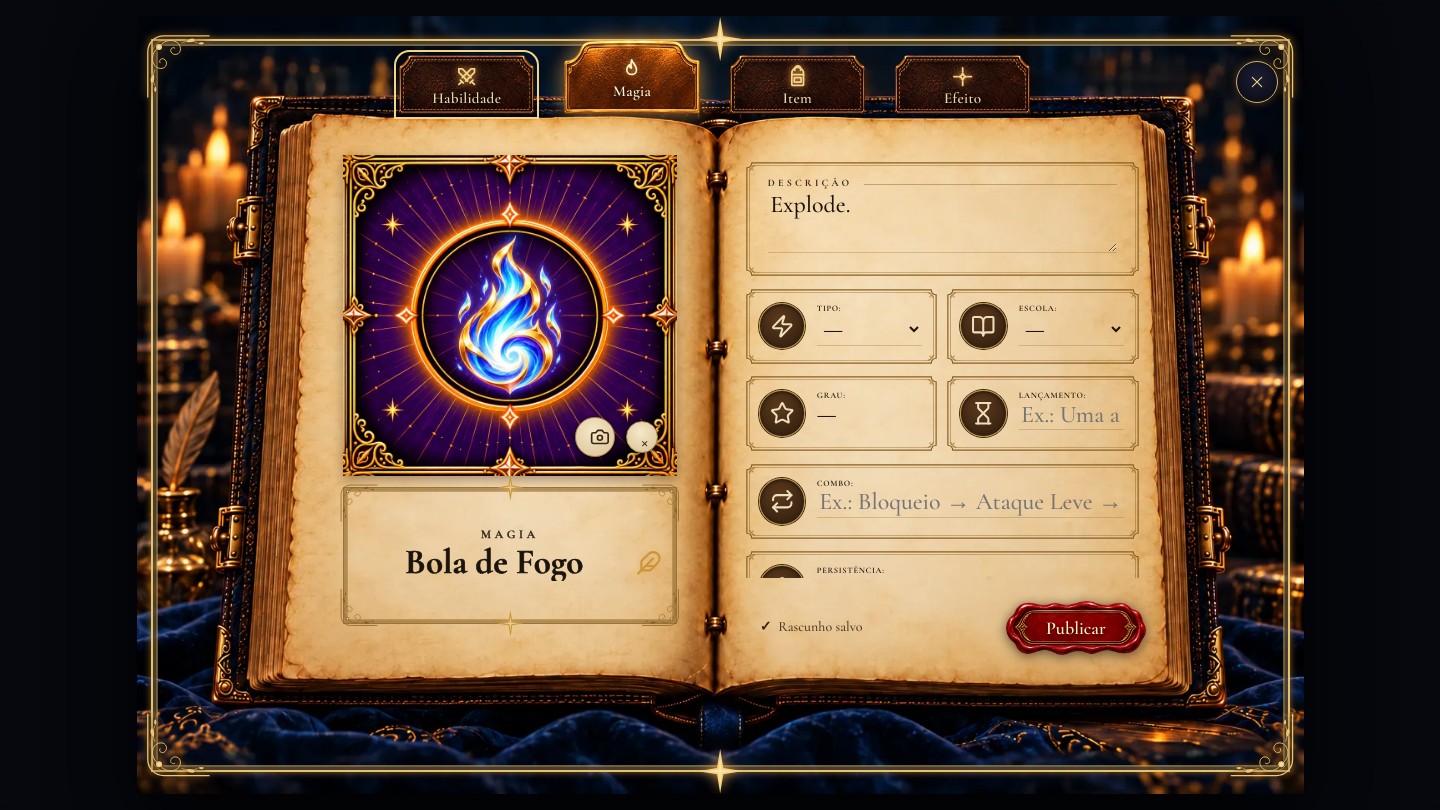
Test: CardEditor — salvamento, validação e publicação › publicação com arte privada: a confirmação avisa da cópia e publica com a versão salva
Click the button "Publicar". click: (1076, 628)
box: [1006,601,1146,655]
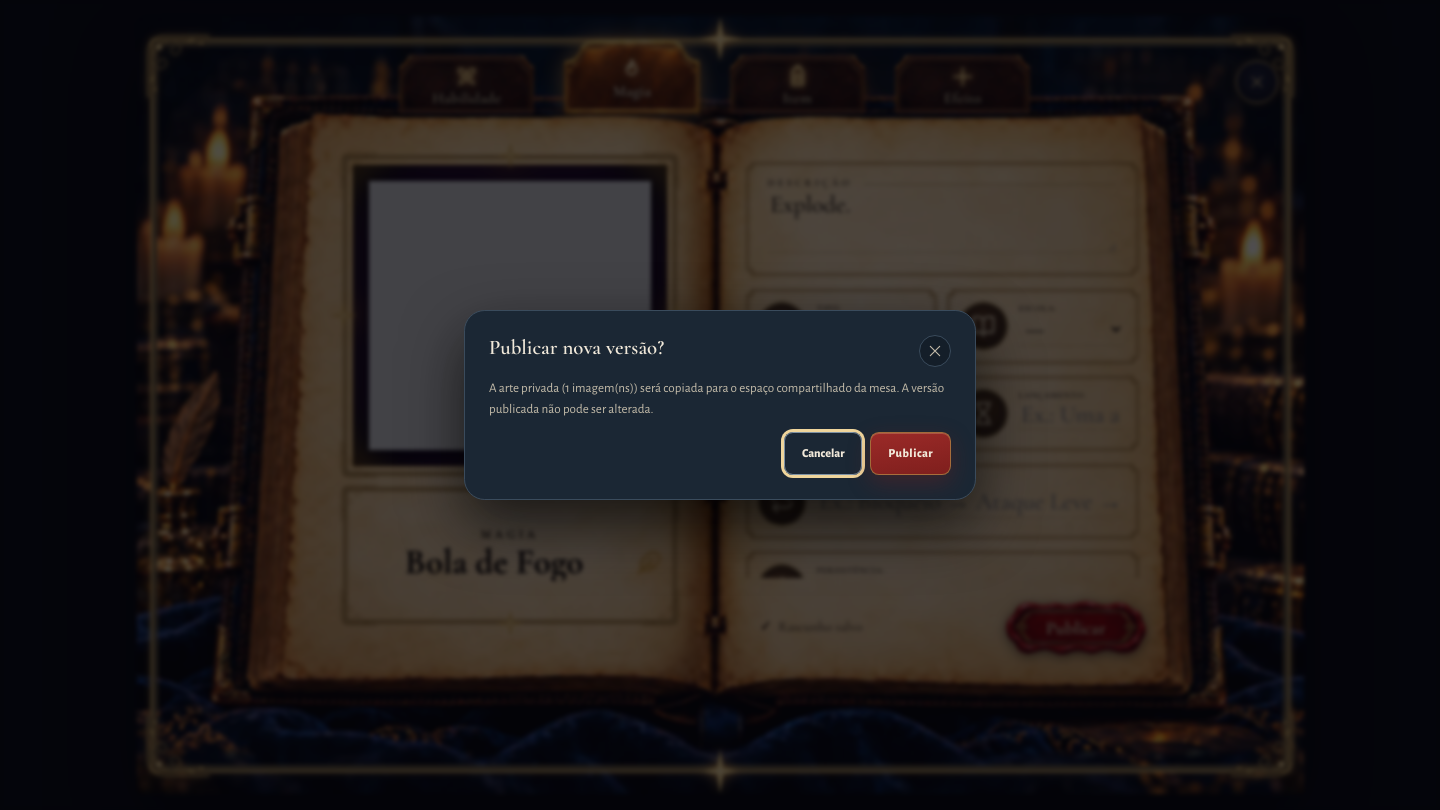
Click the button "Publicar". click: (911, 453)
box: [870,432,951,475]
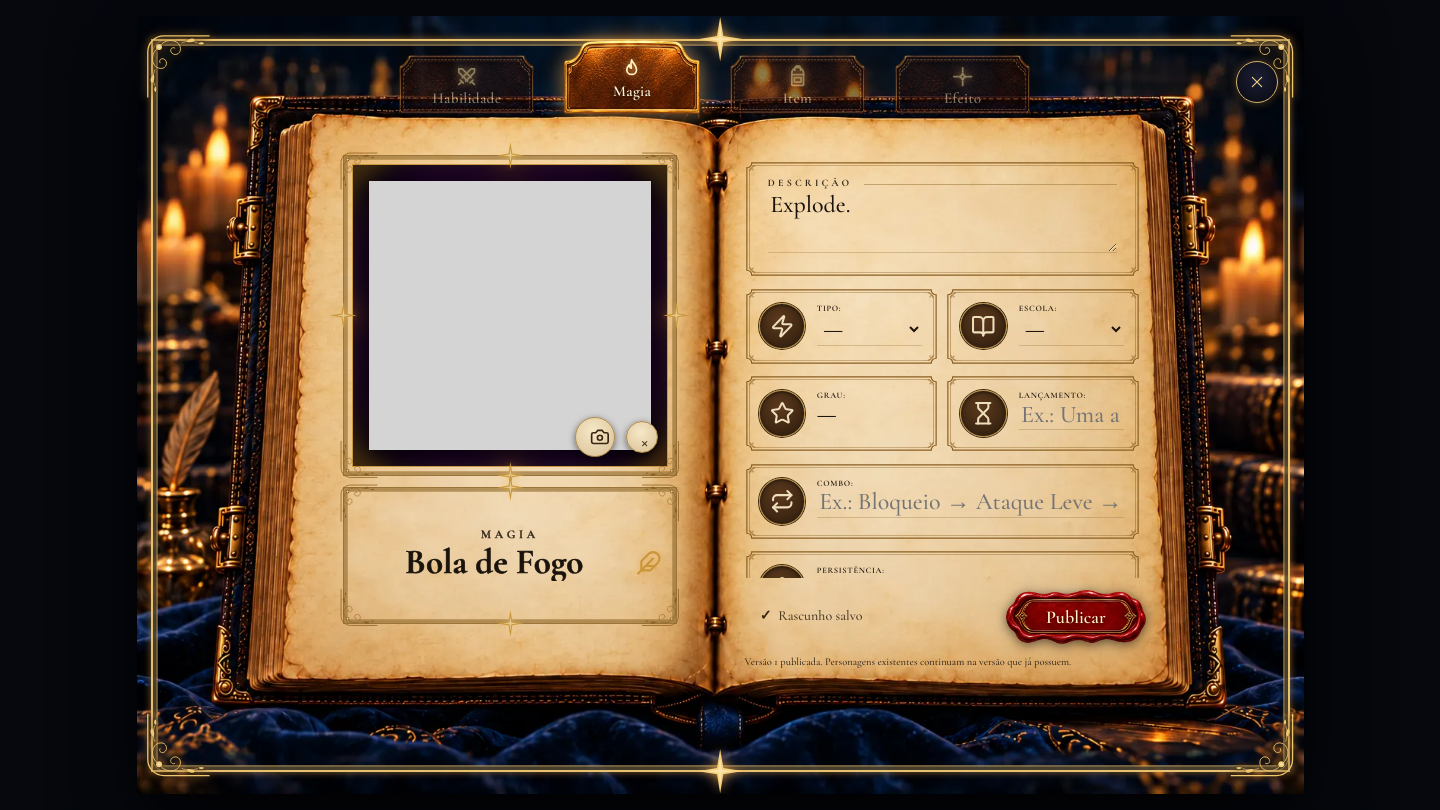
expect the text "Versão 1 publicada. Personagens existentes continuam na versão que já possuem." is shown: met, box [744,655,1071,668]
expect the radio button labelled "Habilidade" is disabled: met, box [399,55,534,114]
